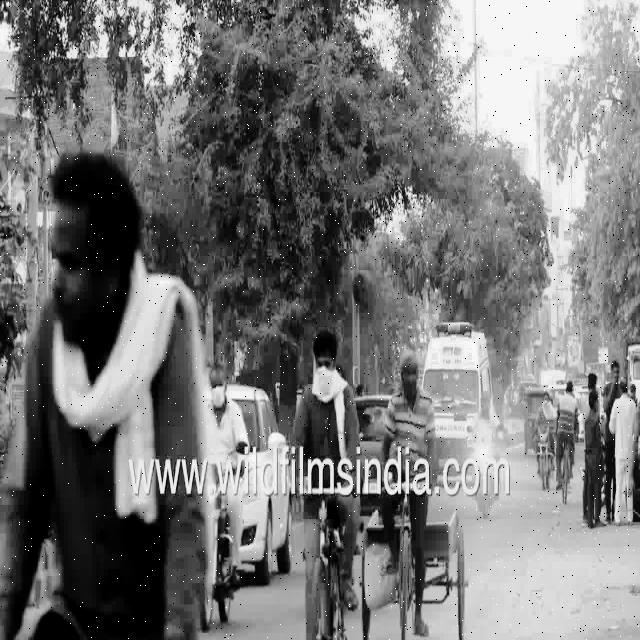Ambulance: (424, 306, 507, 444)
